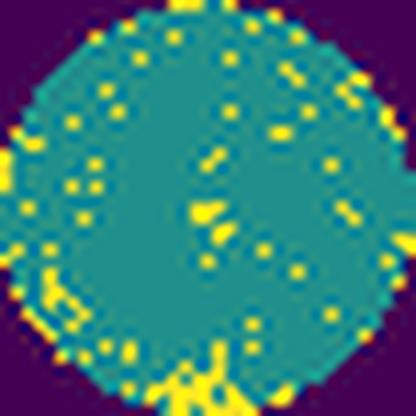Edge-Loc: (142, 343, 258, 416)
